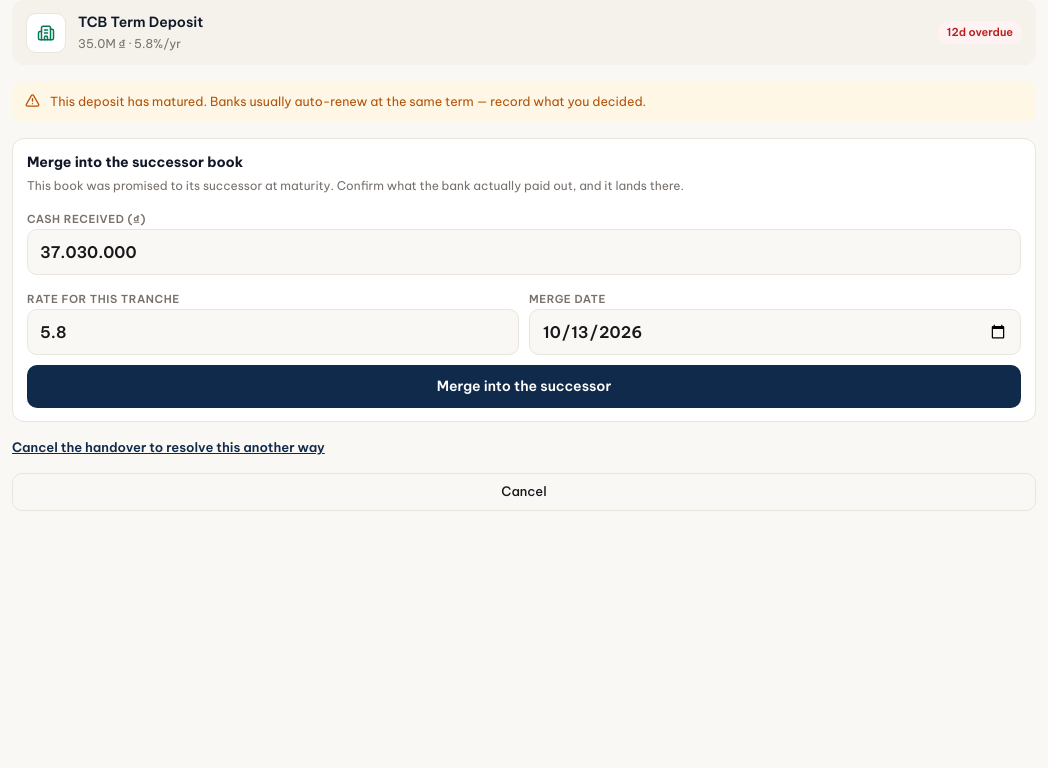
Scenario: MaturityResolveBody › reads the book again when the merge says it changed
This screenshot has width=1048, height=768.
Click the button with test id "merge-successor-submit": (524, 386) [27,365,1021,408]
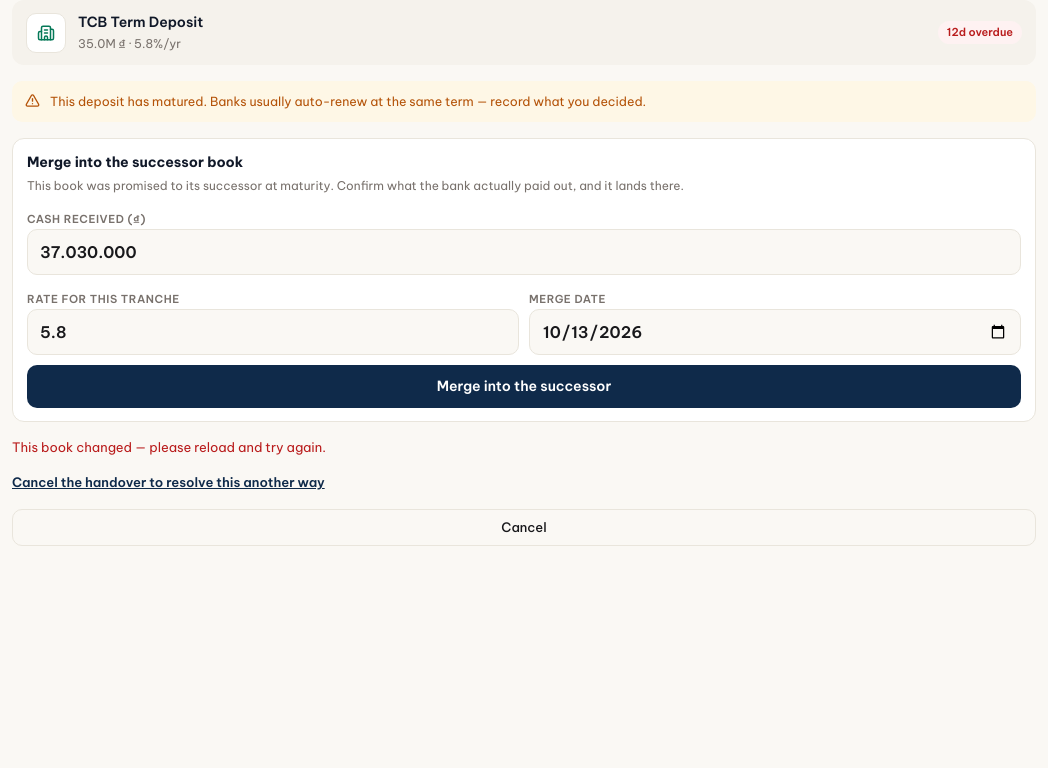
Result: the text "This book changed — please reload and try again." is shown at [12,439,326,455]
